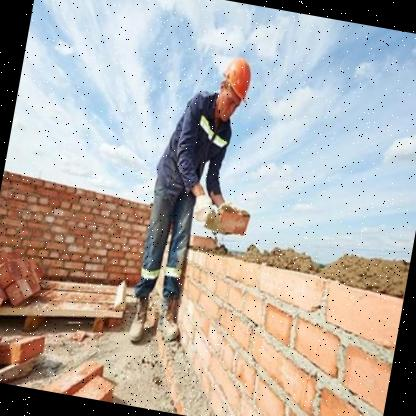bota: (150, 288, 190, 349), (122, 291, 154, 348)
capacete: (210, 52, 256, 122)
